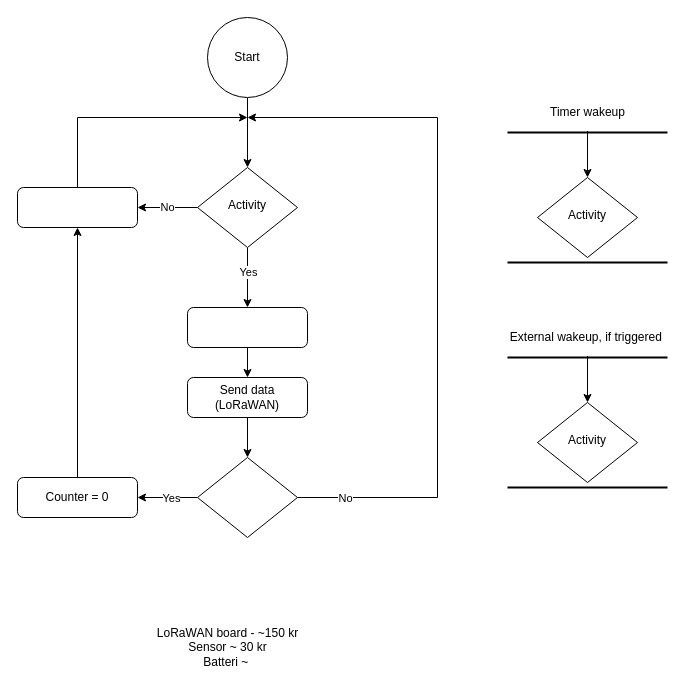
Image size: 695x695. Some labels were removed from this diagram. The shapes that lost their labels are listed below. From the top down, each one's centre as x and y in pixels, then its label:
point 77,207: Deepsleep n minutes
point 247,327: counter++
point 247,497: Counter > 2
